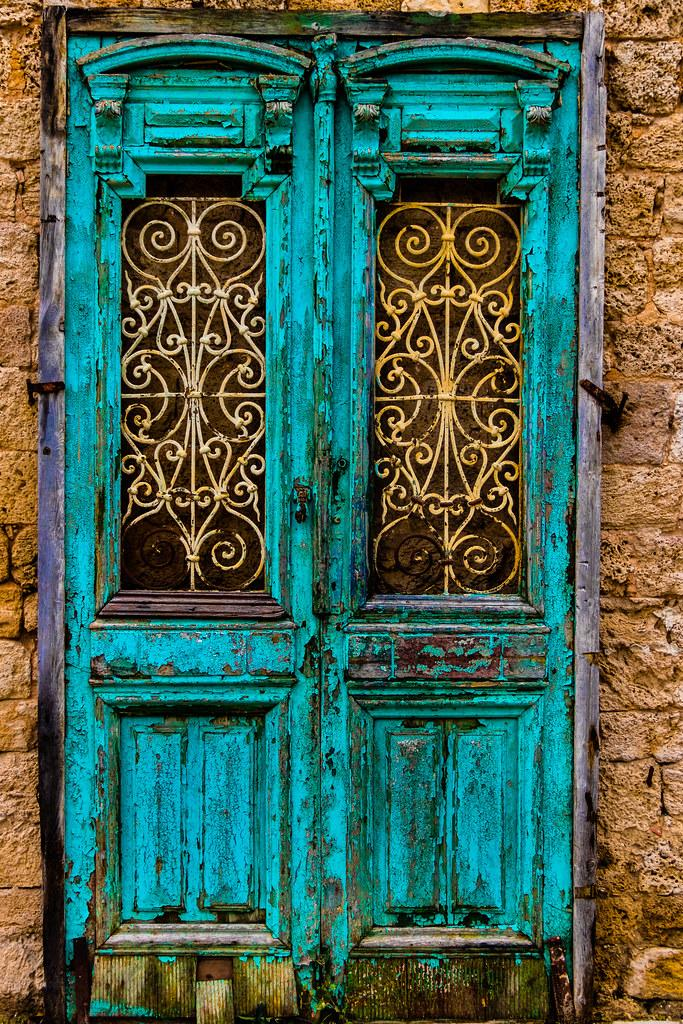door: (62, 24, 582, 1021)
